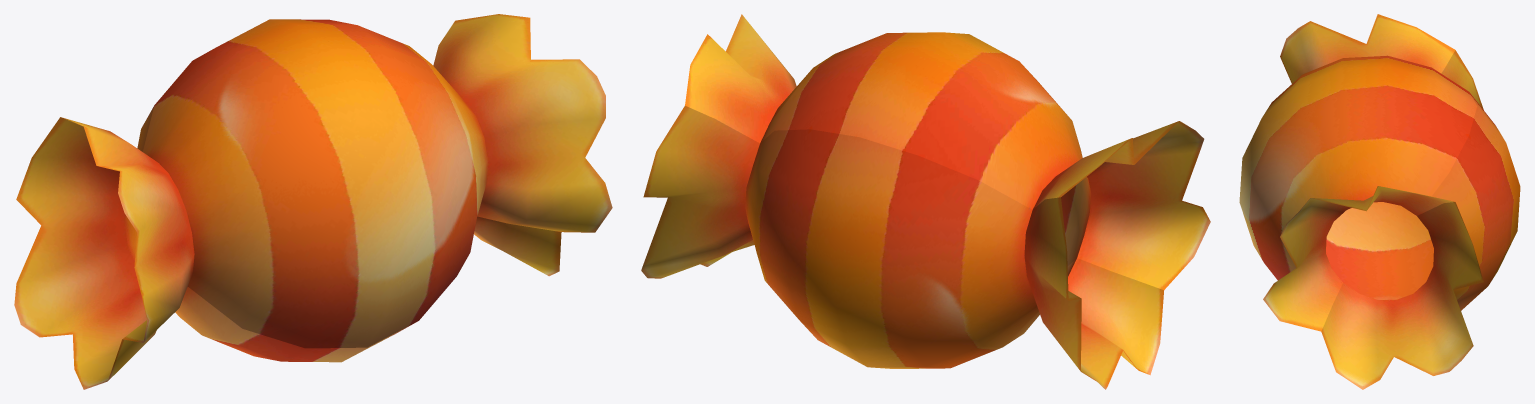
The model's file is candies1.fbx.
3 views of the same model, side by side, from view 1: azimuth 30°, elevation 25°; view 2: azimuth 150°, elevation 25°; view 3: azimuth 270°, elevation 25° (orthographic). The views are drawn at different scales.
Visible parts, largest first — view 1: candies1; view 2: candies1; view 3: candies1.
Boxes of the visible parts, x1,y1,x2,y2 form: candies1: [14, 14, 612, 389]; candies1: [641, 14, 1210, 389]; candies1: [1239, 14, 1520, 389].
Size of the model in its own units: 221 by 142 by 142.
1 material, 1 textured.
